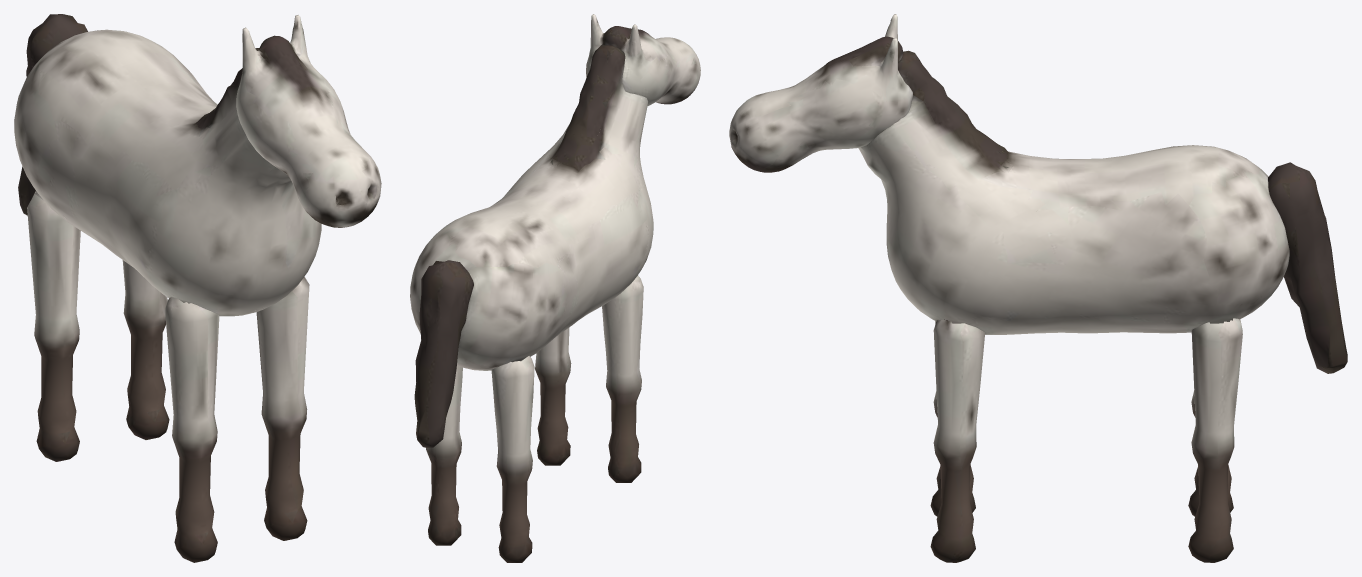
File: animal_appaloosa.glb
3 renders of one model, left to right at view 1: azimuth 30°, elevation 25°; view 2: azimuth 150°, elevation 25°; view 3: azimuth 270°, elevation 25°, orthographic. The views are drawn at different scales.
Parts seen in each view (by area): view 1: animal_appaloosa, head, leg0, leg2, leg1, leg3, tail; view 2: animal_appaloosa, tail, leg2, leg0, head, leg3, leg1; view 3: animal_appaloosa, head, leg3, leg1, tail.
Part boxes in pixels (x1,y1,x2,y2): animal_appaloosa: (14,29,321,316); head: (236,15,381,227); leg0: (165,297,219,562); leg2: (27,191,80,461); leg1: (256,277,309,540); leg3: (122,260,169,439); tail: (18,14,87,215); animal_appaloosa: (410,44,653,370); tail: (414,260,473,447); leg2: (491,356,534,562); leg0: (602,275,643,482); head: (586,14,700,105); leg3: (426,365,462,545); leg1: (535,327,571,465); animal_appaloosa: (858,50,1289,334); head: (729,14,912,172); leg3: (1188,318,1242,562); leg1: (930,319,984,562); tail: (1268,162,1347,373).
Bounding box in the file's own units: 0.2211 × 0.7049 × 0.7675.
Materials: 1 (1 with a texture image).
